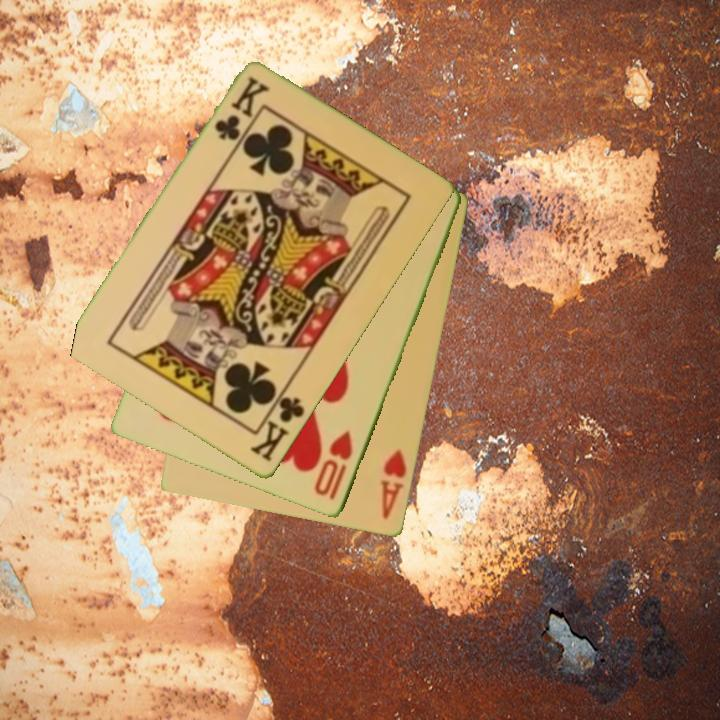10h: (311, 427, 356, 503)
Ah: (377, 446, 410, 523)
Kc: (247, 384, 308, 466), (211, 73, 271, 145)
